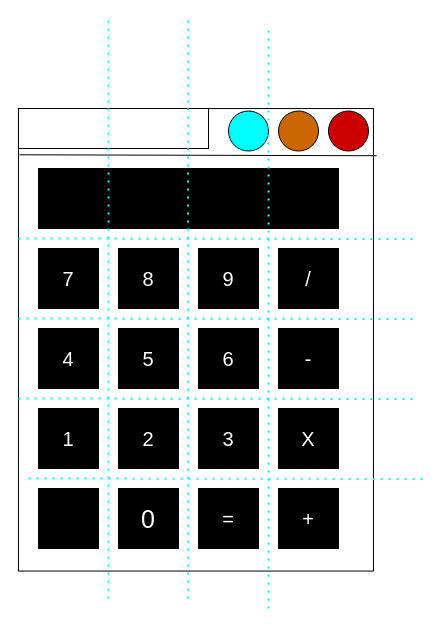
The diagram is 447 pixels wide and 627 high, and some of its shapes have lost their labels. Here are the shapes that lost their labels. From the top down, the box of each, then its label:
(18, 108, 208, 148): CALCULATOR
(38, 488, 98, 548): CLR
